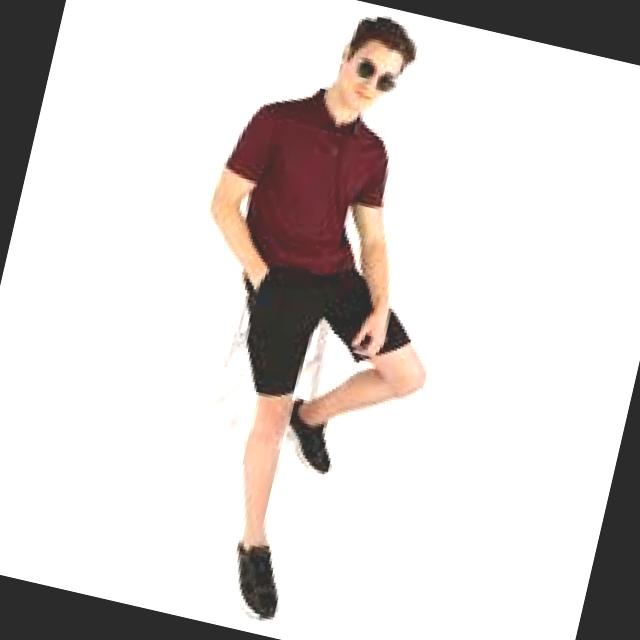face: (336, 40, 403, 112)
foot-wear: (236, 543, 277, 619), (288, 399, 329, 474)
lower-wear: (243, 265, 371, 395)
top-wear: (226, 87, 387, 275)
